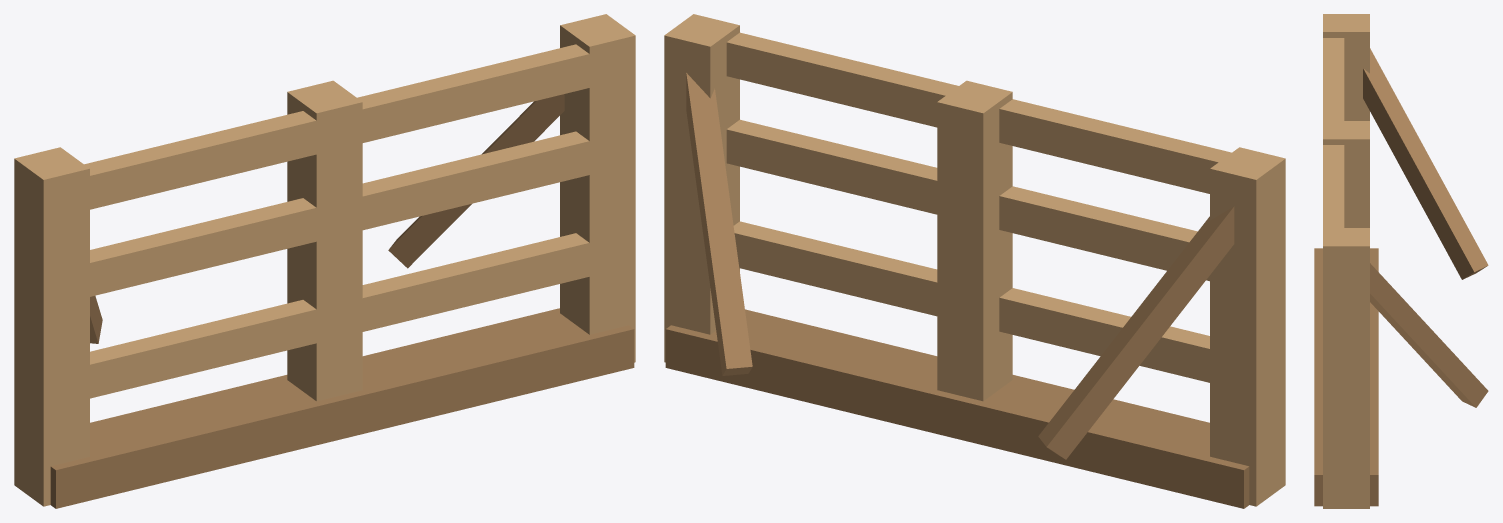
The model's file is melee-ring-fence-panel.glb.
3 views of the same model, side by side, from view 1: azimuth 30°, elevation 25°; view 2: azimuth 150°, elevation 25°; view 3: azimuth 270°, elevation 25° (orthographic). The views are drawn at different scales.
Visible parts, largest first — view 1: melee-ring-fence-panel; view 2: melee-ring-fence-panel; view 3: melee-ring-fence-panel.
Part boxes in pixels (x1,y1,x2,y2): melee-ring-fence-panel: (14,14,635,508); melee-ring-fence-panel: (664,14,1285,508); melee-ring-fence-panel: (1314,14,1488,508).
Bounding box in the file's own units: 2.56 × 1.35 × 0.8119.
